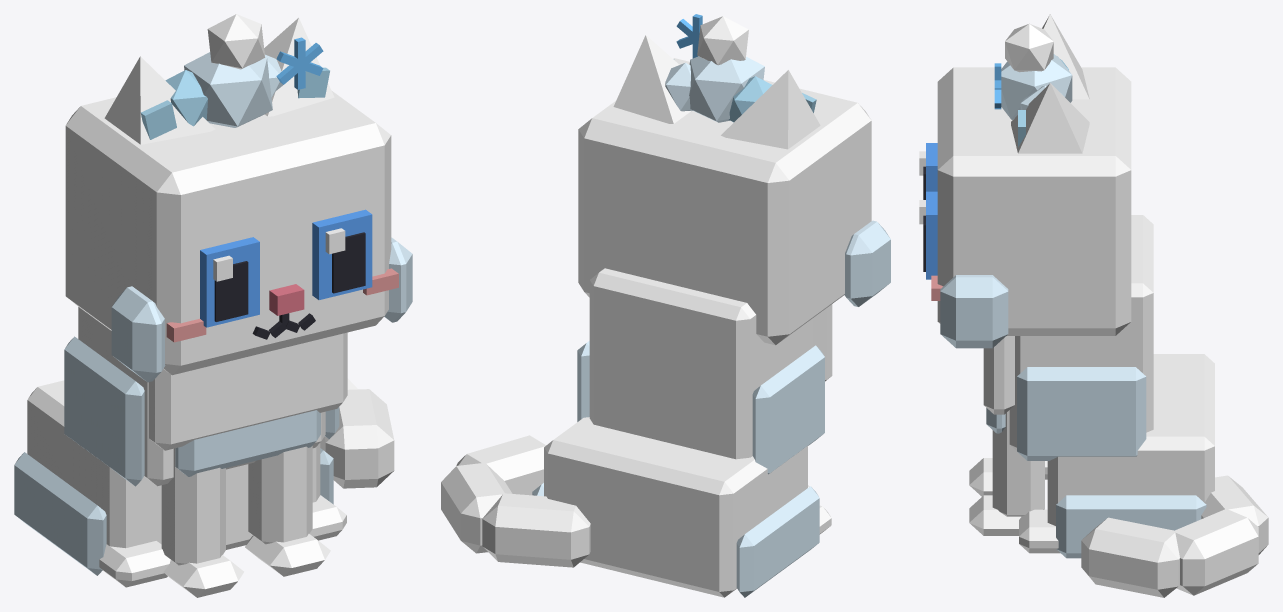
The model's file is CatCafe_Cat_Snowball_Sit.glb.
3 renders of one model, left to right at view 1: azimuth 30°, elevation 25°; view 2: azimuth 150°, elevation 25°; view 3: azimuth 270°, elevation 25°, orthographic. The views are drawn at different scales.
Parts seen in each view (by area): view 1: CatCafe_Cat_Snowball_Sit_Head, CatCafe_Cat_Snowball_Sit_Body, CatCafe_Cat_Snowball_Sit_Prop, CatCafe_Cat_Snowball_Sit_LegF2, CatCafe_Cat_Snowball_Sit_LegF1, CatCafe_Cat_Snowball_Sit_Tail, CatCafe_Cat_Snowball_Sit_Eye1, CatCafe_Cat_Snowball_Sit_Eye2, CatCafe_Cat_Snowball_Sit_EarR, CatCafe_Cat_Snowball_Sit_EarL; view 2: CatCafe_Cat_Snowball_Sit_Body, CatCafe_Cat_Snowball_Sit_Head, CatCafe_Cat_Snowball_Sit_Tail, CatCafe_Cat_Snowball_Sit_Prop, CatCafe_Cat_Snowball_Sit_EarR, CatCafe_Cat_Snowball_Sit_EarL; view 3: CatCafe_Cat_Snowball_Sit_Head, CatCafe_Cat_Snowball_Sit_Body, CatCafe_Cat_Snowball_Sit_Tail, CatCafe_Cat_Snowball_Sit_LegF1, CatCafe_Cat_Snowball_Sit_Prop, CatCafe_Cat_Snowball_Sit_EarL, CatCafe_Cat_Snowball_Sit_Eye1, CatCafe_Cat_Snowball_Sit_EarR, CatCafe_Cat_Snowball_Sit_Eye2, CatCafe_Cat_Snowball_Sit_LegF2.
Part boxes in pixels (left/top/right/bottom): CatCafe_Cat_Snowball_Sit_Head: left=65, top=90, right=412, bottom=382; CatCafe_Cat_Snowball_Sit_Body: left=14, top=307, right=347, bottom=587; CatCafe_Cat_Snowball_Sit_Prop: left=165, top=14, right=323, bottom=127; CatCafe_Cat_Snowball_Sit_LegF2: left=161, top=448, right=243, bottom=597; CatCafe_Cat_Snowball_Sit_LegF1: left=245, top=446, right=330, bottom=576; CatCafe_Cat_Snowball_Sit_Tail: left=320, top=378, right=394, bottom=488; CatCafe_Cat_Snowball_Sit_Eye1: left=312, top=209, right=372, bottom=299; CatCafe_Cat_Snowball_Sit_Eye2: left=200, top=237, right=259, bottom=327; CatCafe_Cat_Snowball_Sit_EarR: left=104, top=56, right=215, bottom=144; CatCafe_Cat_Snowball_Sit_EarL: left=264, top=17, right=334, bottom=116; CatCafe_Cat_Snowball_Sit_Body: left=532, top=268, right=832, bottom=597; CatCafe_Cat_Snowball_Sit_Head: left=578, top=58, right=890, bottom=345; CatCafe_Cat_Snowball_Sit_Tail: left=441, top=435, right=590, bottom=567; CatCafe_Cat_Snowball_Sit_Prop: left=665, top=14, right=771, bottom=122; CatCafe_Cat_Snowball_Sit_EarR: left=721, top=70, right=820, bottom=149; CatCafe_Cat_Snowball_Sit_EarL: left=613, top=35, right=691, bottom=123; CatCafe_Cat_Snowball_Sit_Head: left=931, top=67, right=1131, bottom=348; CatCafe_Cat_Snowball_Sit_Body: left=983, top=215, right=1214, bottom=558; CatCafe_Cat_Snowball_Sit_Tail: left=1081, top=475, right=1268, bottom=597; CatCafe_Cat_Snowball_Sit_LegF1: left=969, top=410, right=1044, bottom=535; CatCafe_Cat_Snowball_Sit_Prop: left=994, top=23, right=1072, bottom=119; CatCafe_Cat_Snowball_Sit_EarL: left=1011, top=83, right=1089, bottom=153; CatCafe_Cat_Snowball_Sit_Eye1: left=919, top=191, right=937, bottom=279; CatCafe_Cat_Snowball_Sit_EarR: left=1042, top=14, right=1089, bottom=99; CatCafe_Cat_Snowball_Sit_Eye2: left=919, top=143, right=937, bottom=199; CatCafe_Cat_Snowball_Sit_LegF2: left=969, top=458, right=992, bottom=496.
Bounding box in the file's own units: 1.37 × 1.96 × 1.27.
1 material, 1 textured.
